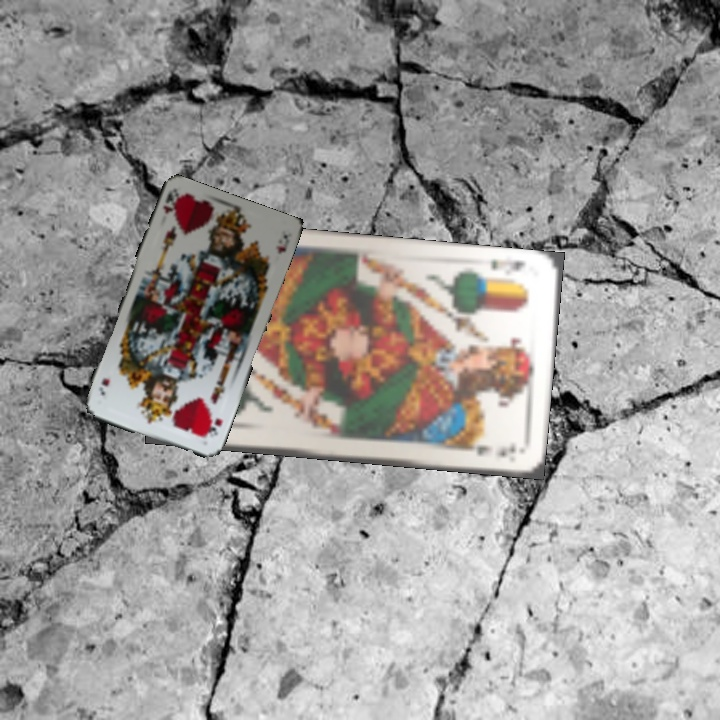EK: (486, 256, 527, 273)
HK: (158, 188, 181, 217), (201, 414, 225, 441)
